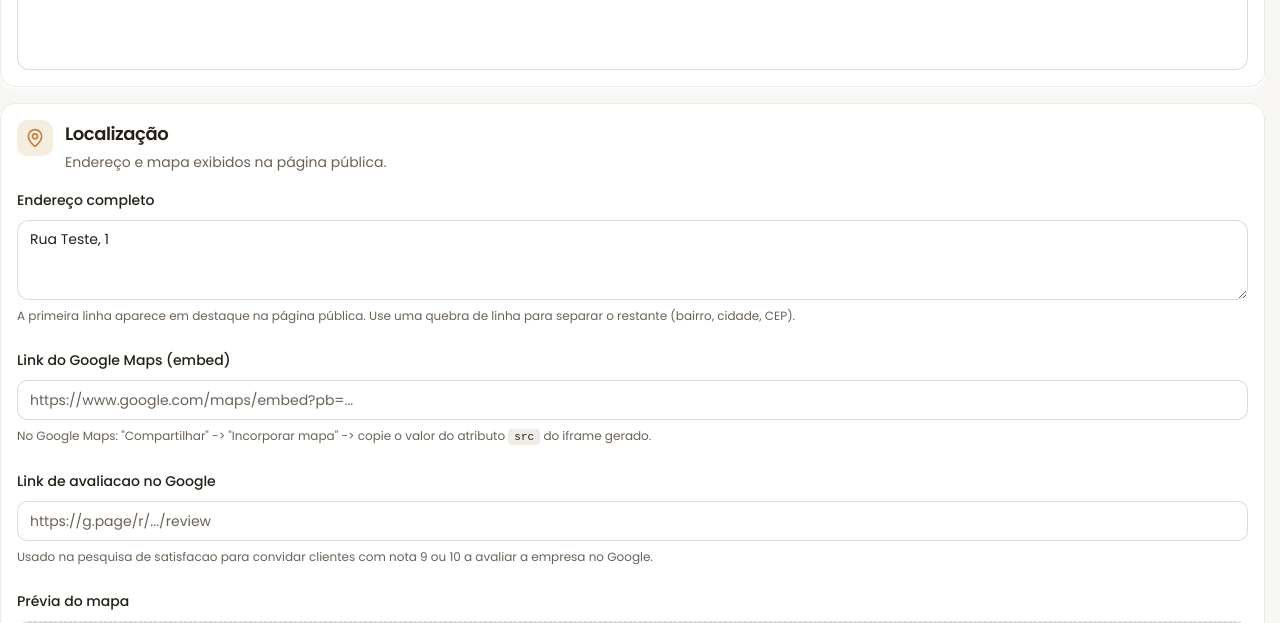
Test case: CompanySettings — salvamento por página › mantém a marca escondida após salvar mesmo quando o valor gravado é normalizado
The image size is (1280, 623).
(page scrolled)
Note: O save grava a URL sem os espaços, então o valor gravado difere do que está no campo.
Type "  https://www.google.com/maps/embed?pb=abc  " into the field labelled "Link do Google Maps (embed)" at {"x": 632, "y": 400}, box [17,380,1248,420]
(page scrolled)
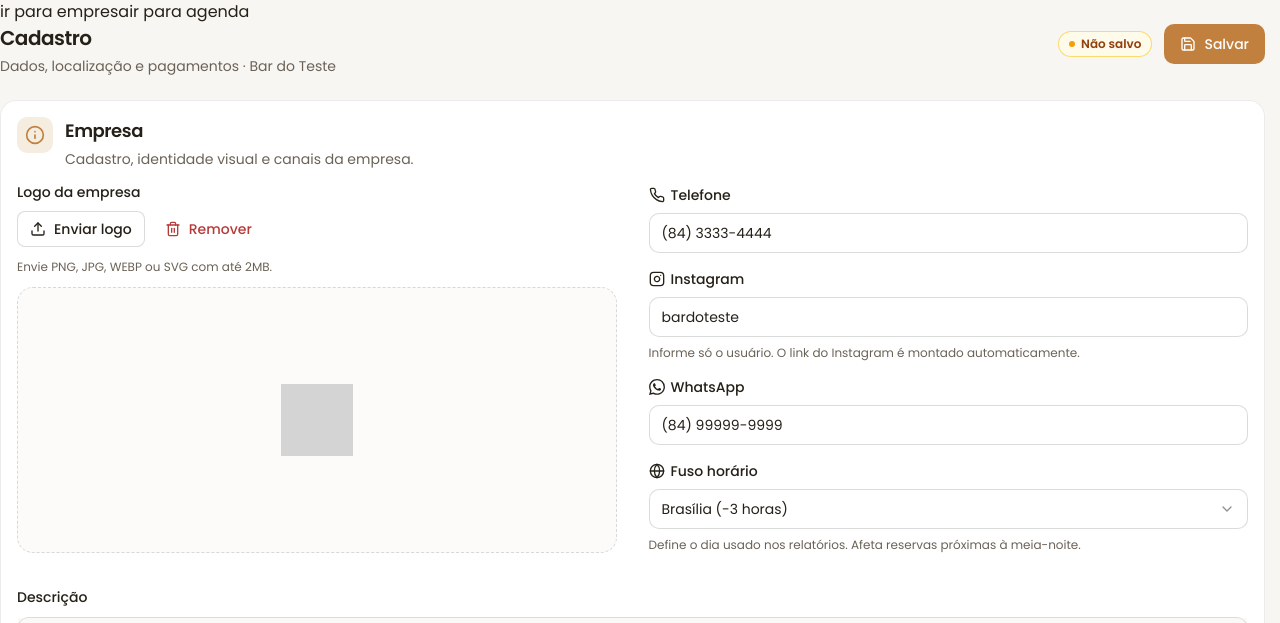
Now the text "Não salvo" is shown, box [1058,31,1152,57]
Click the button "Salvar" at {"x": 1215, "y": 44}, box [1164,24,1265,64]
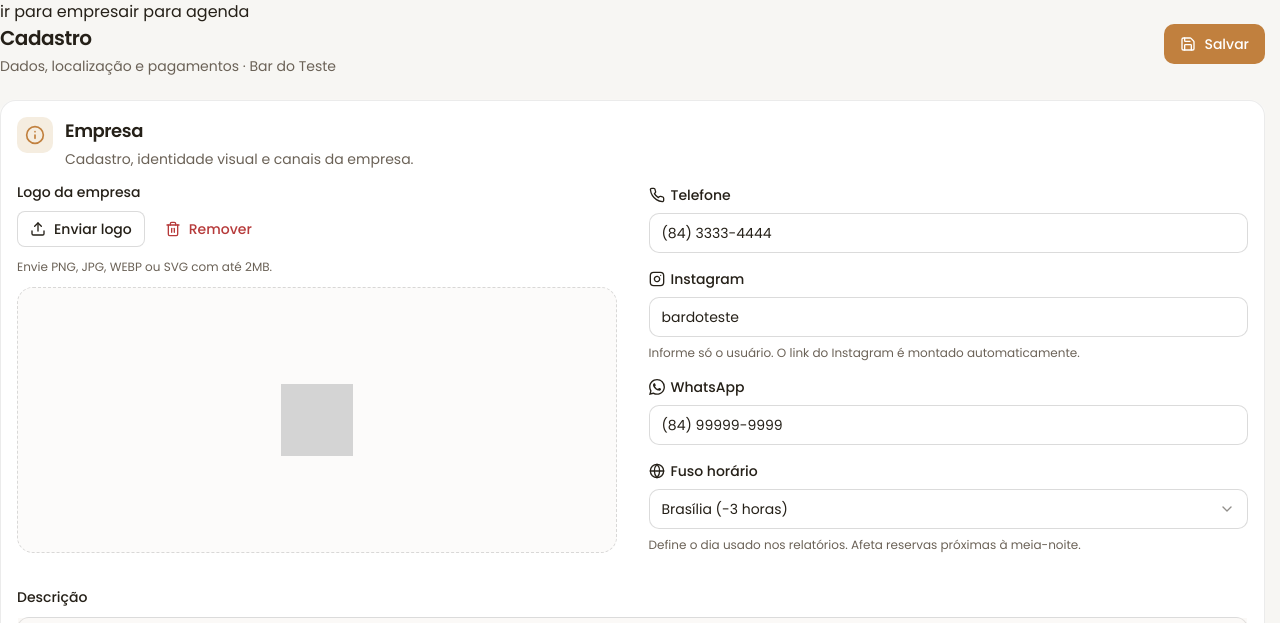
Now the text "Não salvo" is gone
